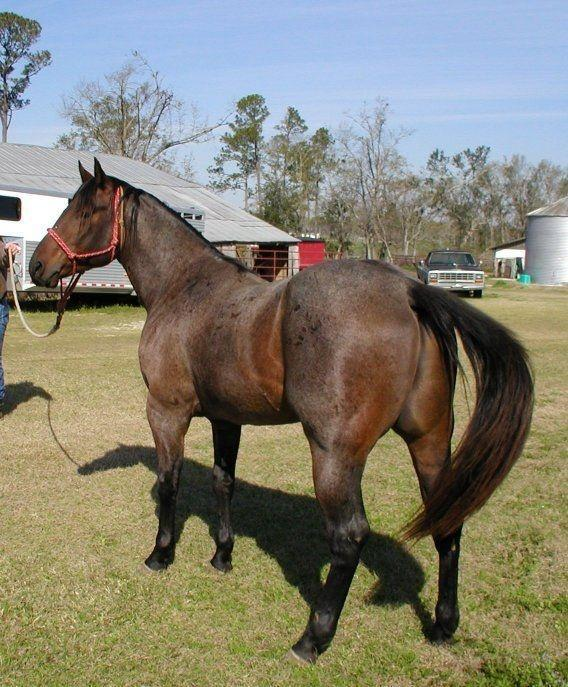horse: (27, 155, 535, 667)
